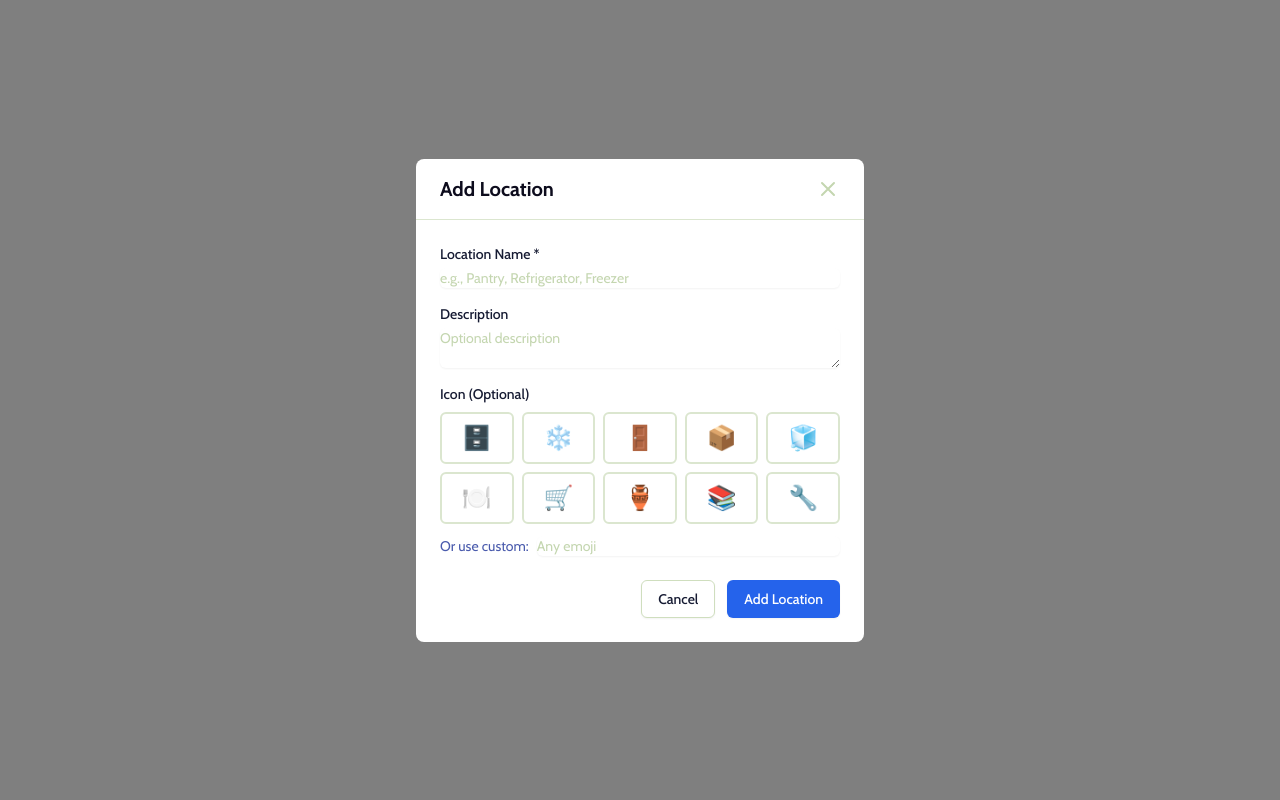
Test: AddLocationModal › surfaces a create error (structured + fallback message)
Type "Pantry" into the field labelled "Location Name *".
click(640, 278); type("Pantry")  # box [440,268,840,288]
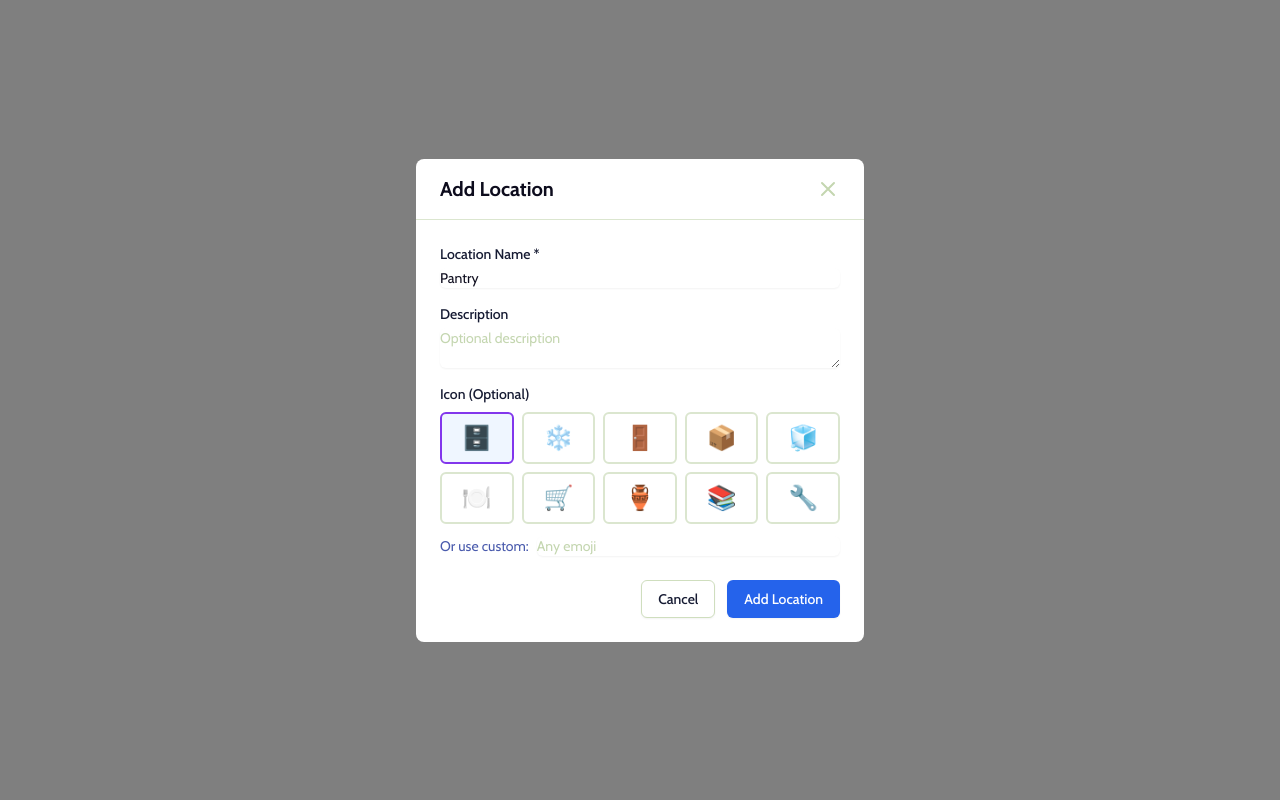
Click the button "Add Location".
click(784, 598)  # box [727,580,840,618]
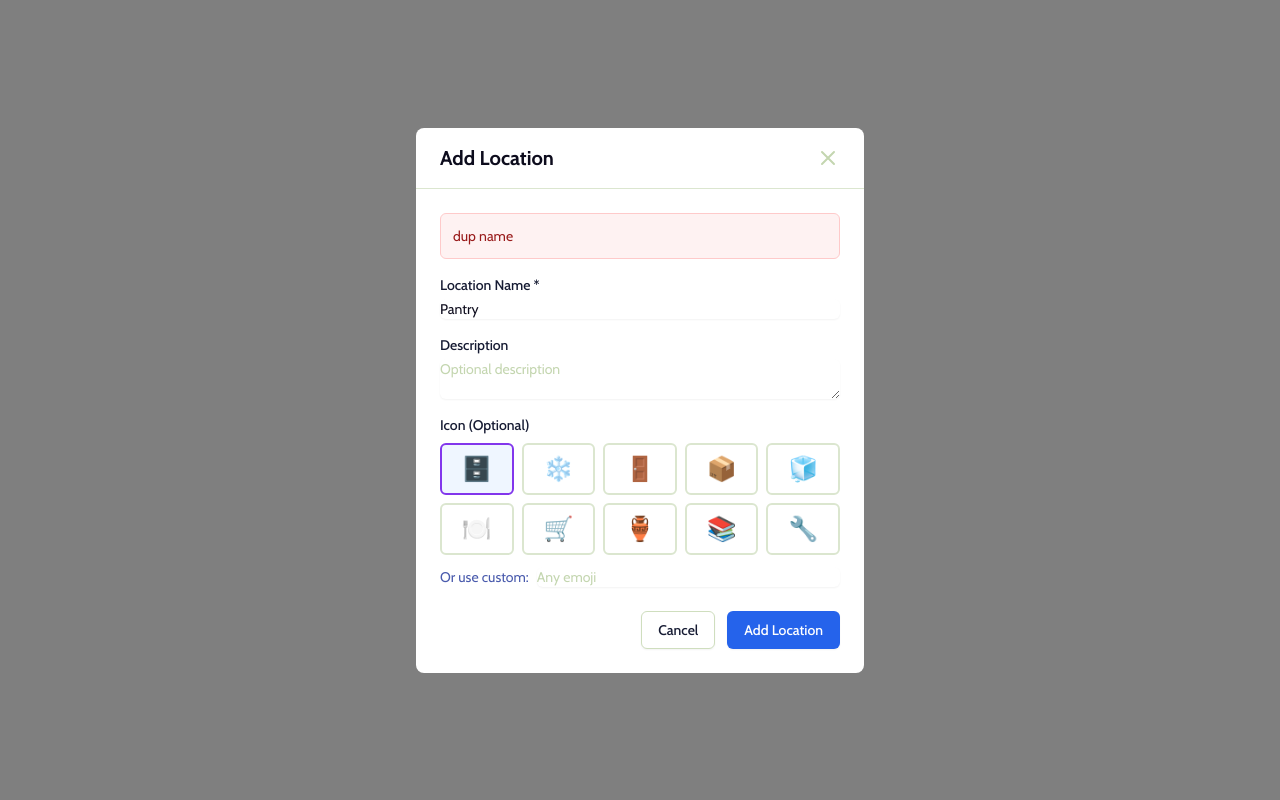
Now the text "dup name" is shown, box [453,226,513,244]
Click the button "Add Location".
click(784, 630)  # box [727,610,840,648]
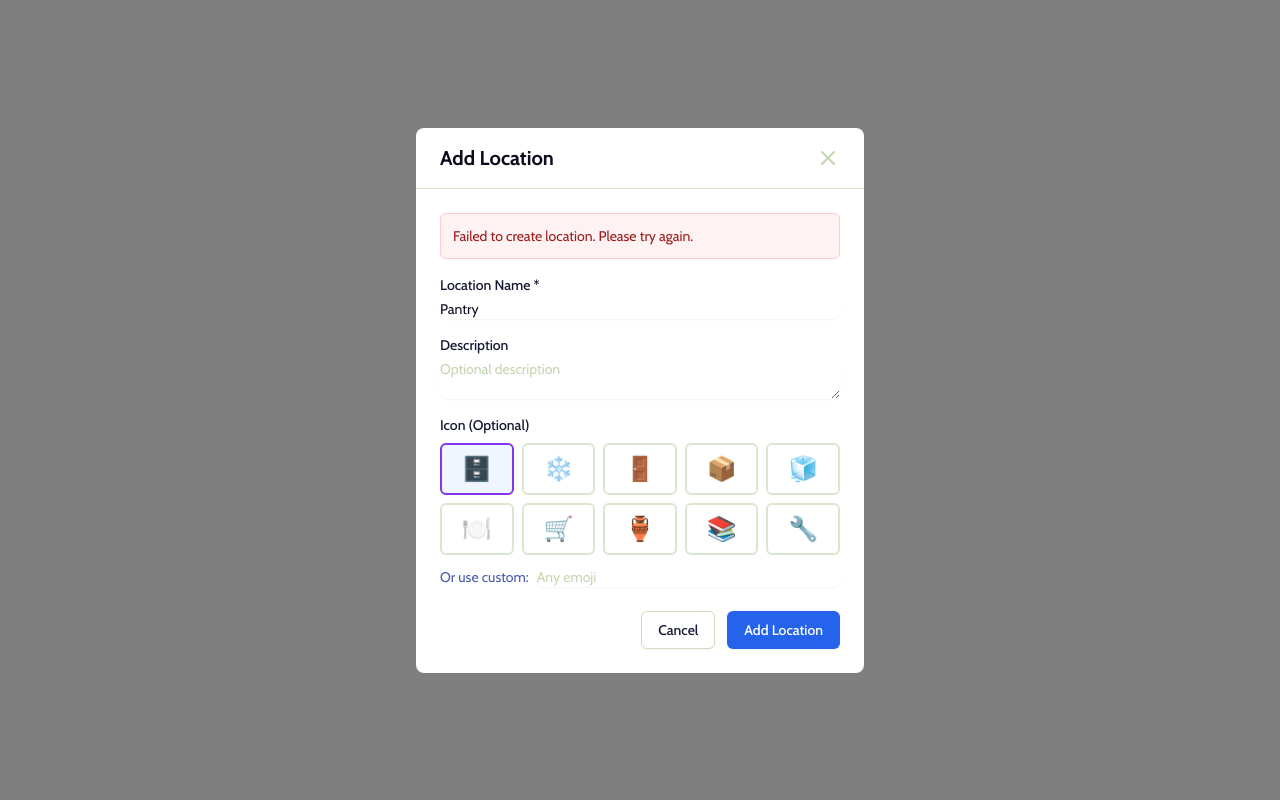
Now the text "Failed to create location. Please try again." is shown, box [453,226,693,244]
